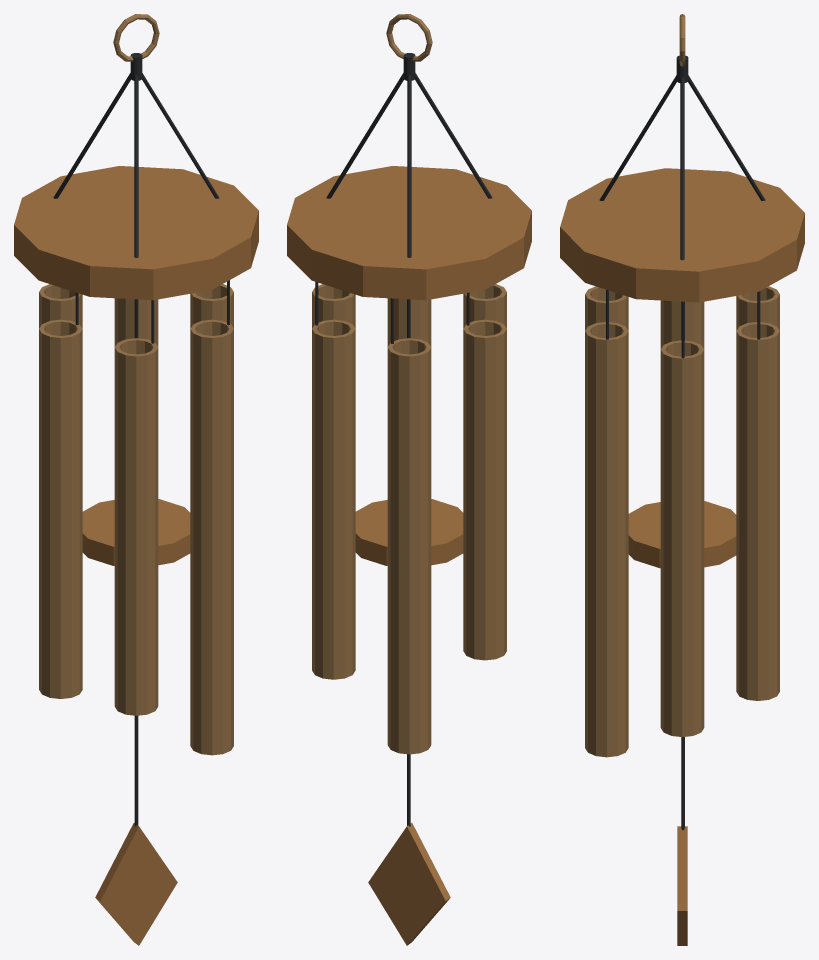
Rendered from NEW_RECOVERY_096_LOD2.glb.
3 renders of one model, left to right at view 1: azimuth 30°, elevation 25°; view 2: azimuth 150°, elevation 25°; view 3: azimuth 270°, elevation 25°, orthographic.
Parts seen in each view (by area): view 1: Wind chime; view 2: Wind chime; view 3: Wind chime.
Part boxes in pixels (box(x1,y1,x2,y2)): Wind chime: box(14, 14, 258, 945); Wind chime: box(287, 14, 531, 945); Wind chime: box(560, 14, 804, 945).
Bounding box in the file's own units: 0.5746 × 2.41 × 0.5746.
